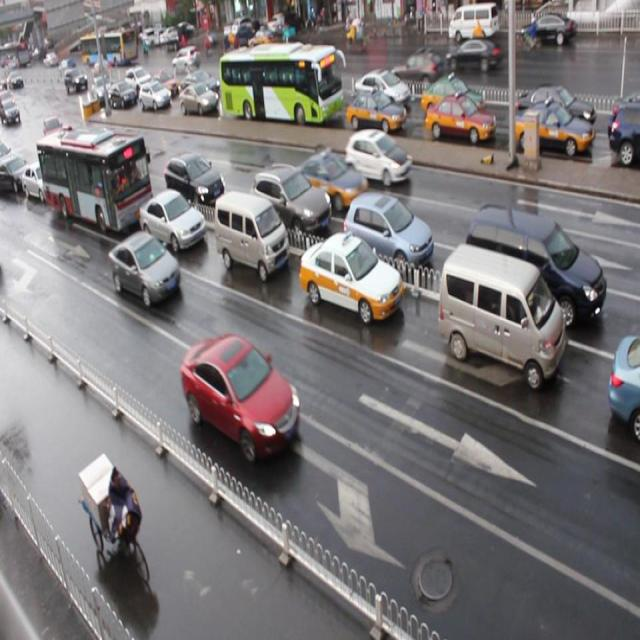car: (180, 331, 302, 465), (298, 228, 402, 322), (342, 194, 433, 278), (250, 162, 330, 234), (109, 230, 181, 306), (290, 147, 368, 214), (513, 99, 592, 157), (137, 186, 205, 251), (345, 128, 412, 190), (164, 150, 226, 211), (425, 92, 495, 142), (607, 331, 640, 437), (514, 86, 590, 130), (424, 74, 488, 120), (344, 85, 404, 133), (354, 69, 409, 110), (607, 98, 640, 160), (21, 158, 58, 202), (97, 139, 134, 180), (178, 82, 219, 116), (612, 93, 640, 142), (258, 68, 296, 103), (1, 152, 31, 193), (139, 78, 170, 113), (189, 69, 225, 99), (148, 68, 177, 97), (42, 115, 65, 150), (125, 64, 151, 92), (108, 81, 135, 107)
truck: (437, 240, 564, 388), (465, 200, 605, 330), (212, 187, 288, 279)
van: (36, 126, 154, 234), (216, 43, 340, 123)
